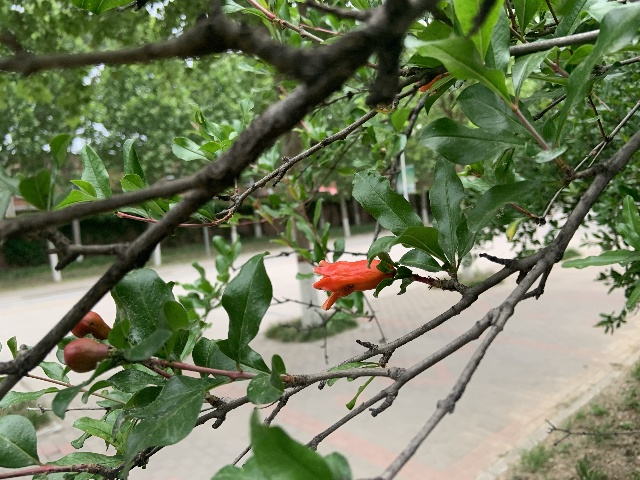bud: (63, 337, 109, 372), (71, 310, 111, 339)
flower: (311, 257, 394, 310)
